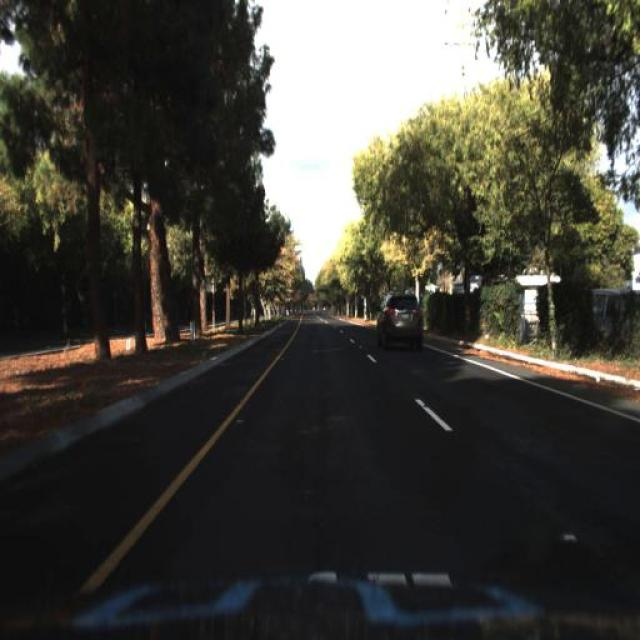car: (372, 287, 430, 349)
